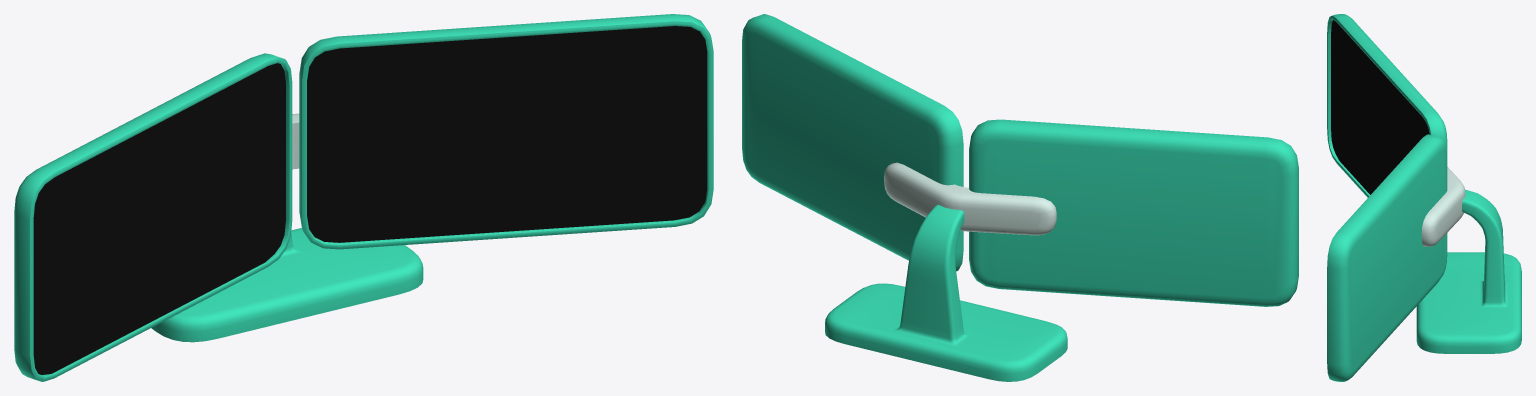
Rendered from Monitor_Dual_V1.fbx.
3 views of the same model, side by side, from view 1: azimuth 30°, elevation 25°; view 2: azimuth 150°, elevation 25°; view 3: azimuth 270°, elevation 25° (orthographic). The views are drawn at different scales.
Parts seen in each view (by area): view 1: Monitor_Dual_V1; view 2: Monitor_Dual_V1; view 3: Monitor_Dual_V1.
Part boxes in pixels (box(x1,y1,x2,y2)): Monitor_Dual_V1: box(14, 14, 713, 381); Monitor_Dual_V1: box(742, 14, 1298, 381); Monitor_Dual_V1: box(1327, 14, 1521, 381).
Bounding box in the file's own units: 245 × 88.54 × 84.74.
